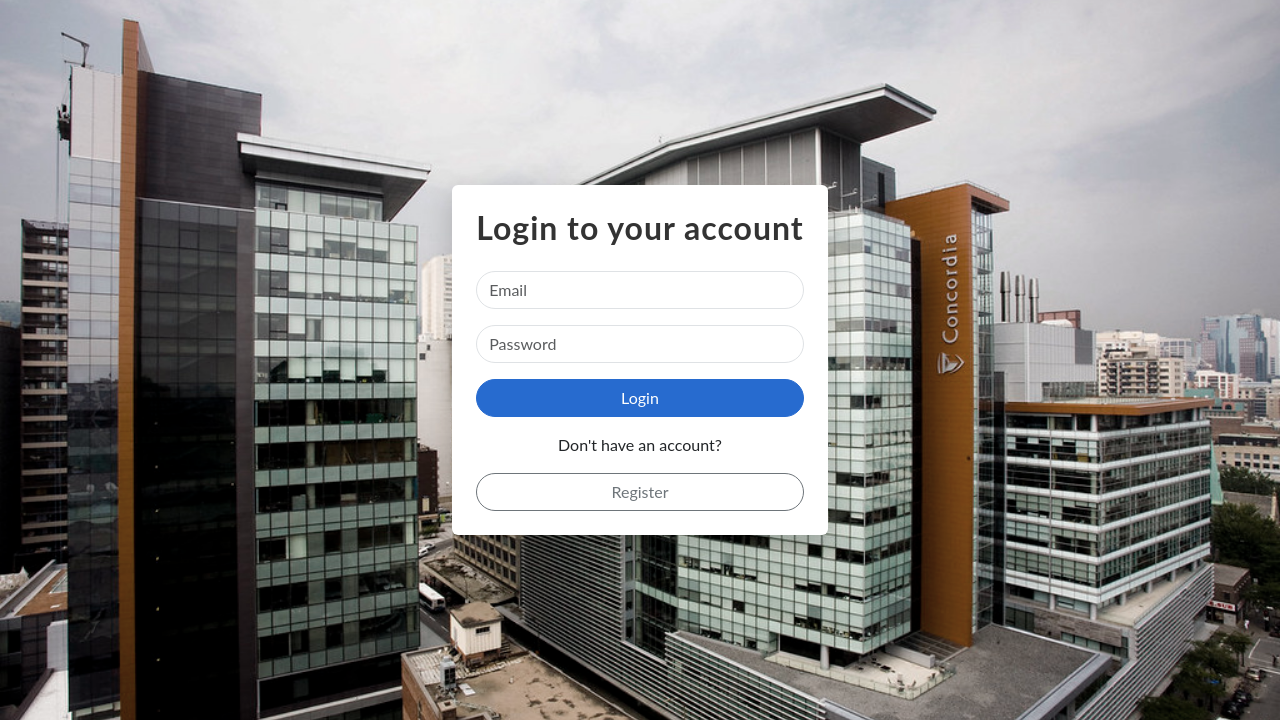
Test: displays appropriate error messages from server response
Click the button "Login".
click(640, 398)  # box [476,379,804,417]
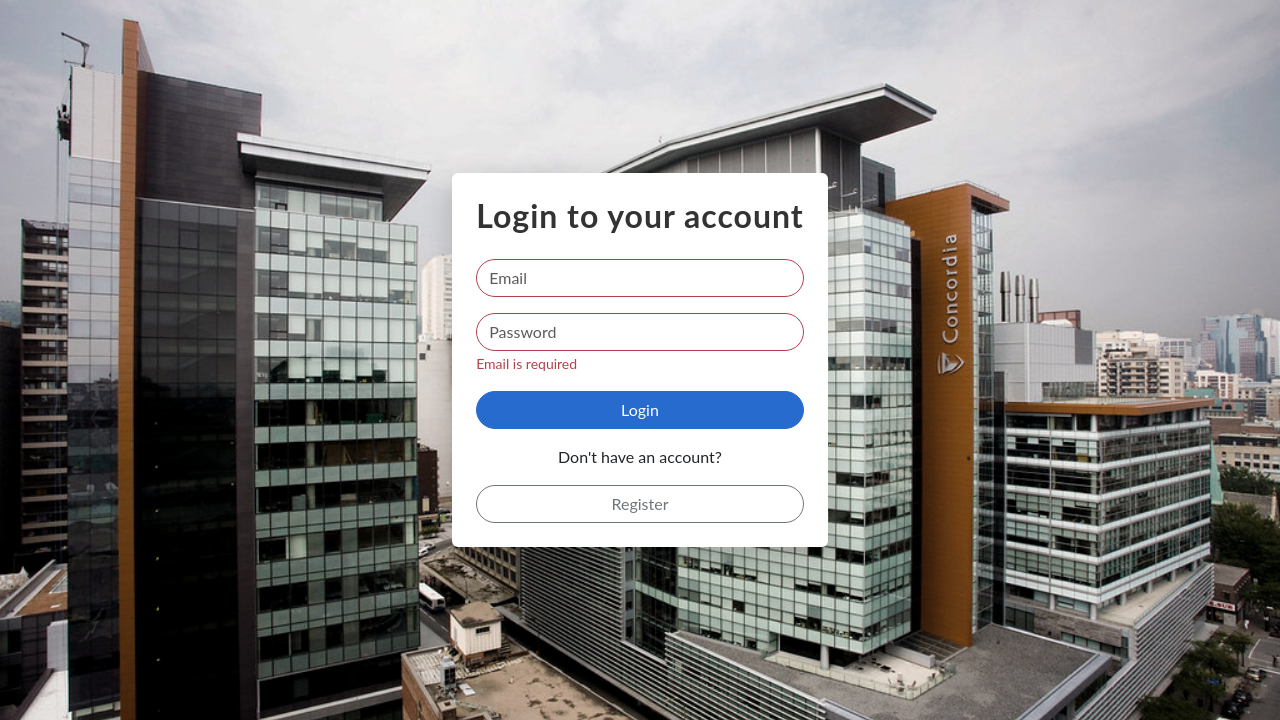
Check: the text "Email is required" is shown, box [476,355,577,372]
